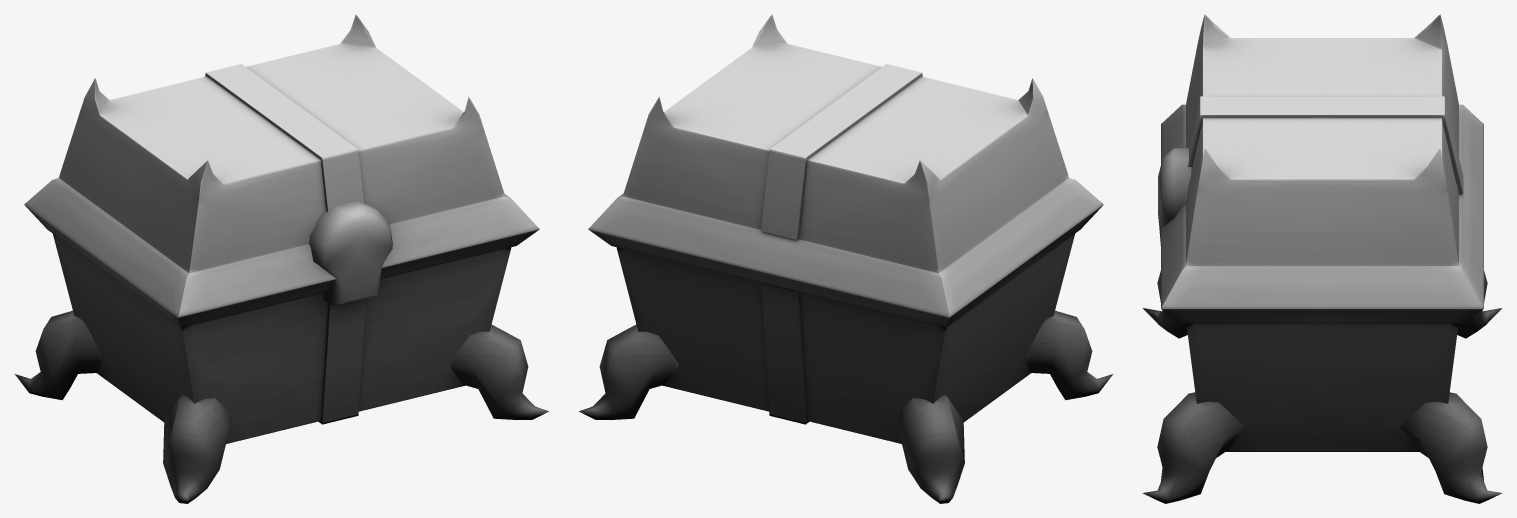
Rendered from treasure_chest.FBX.
3 views of the same model, side by side, from view 1: azimuth 30°, elevation 25°; view 2: azimuth 150°, elevation 25°; view 3: azimuth 270°, elevation 25° (orthographic). The views are drawn at different scales.
Parts seen in each view (by area): view 1: treasurechest; view 2: treasurechest; view 3: treasurechest.
Part boxes in pixels (left/top/right/bottom): treasurechest: left=15, top=14, right=548, bottom=503; treasurechest: left=579, top=14, right=1112, bottom=503; treasurechest: left=1142, top=14, right=1502, bottom=503.
Bounding box in the file's own units: 83.44 × 69.86 × 68.63.
Materials: 1 (1 with a texture image).
